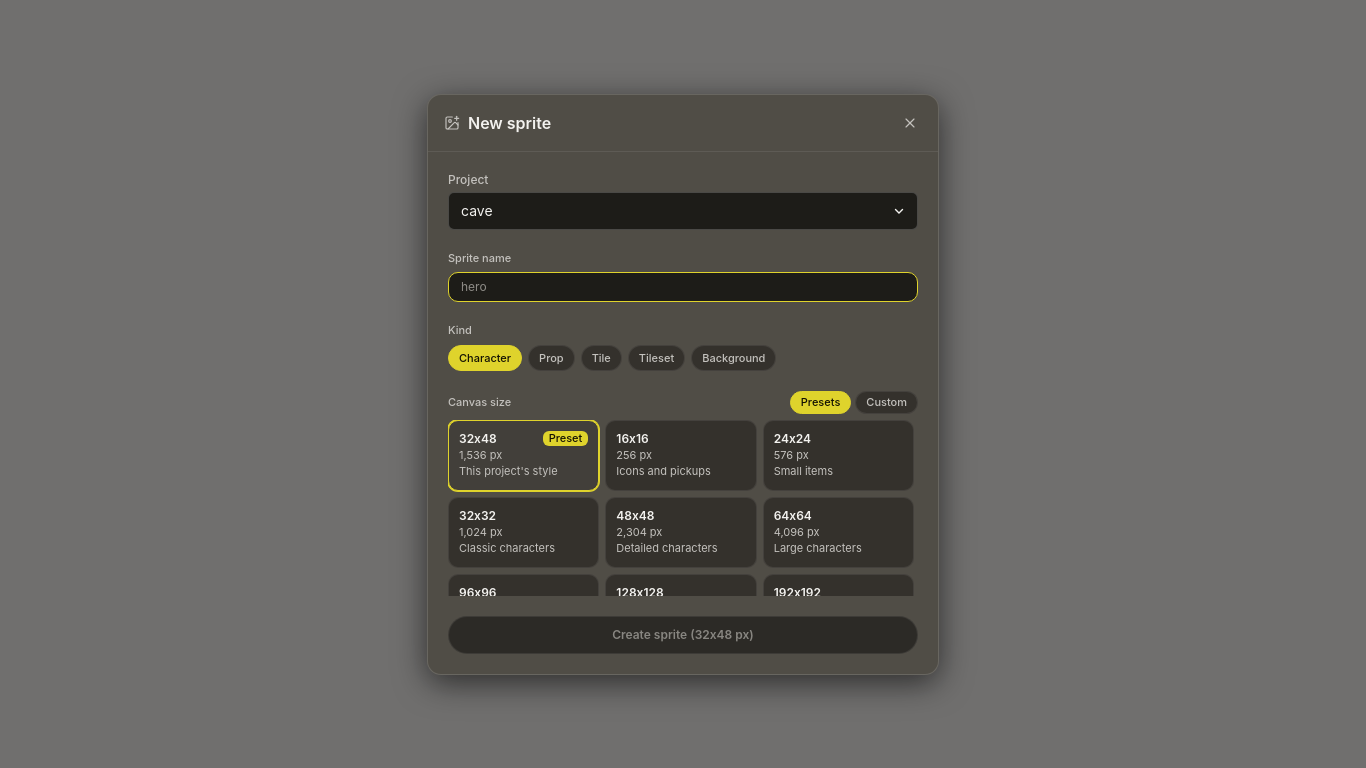
Test: NewSpriteDialog › marks the project's size for the kind, and moves it when the kind changes
Click the button "Tile" at (601, 358), box [581,344,622,371]
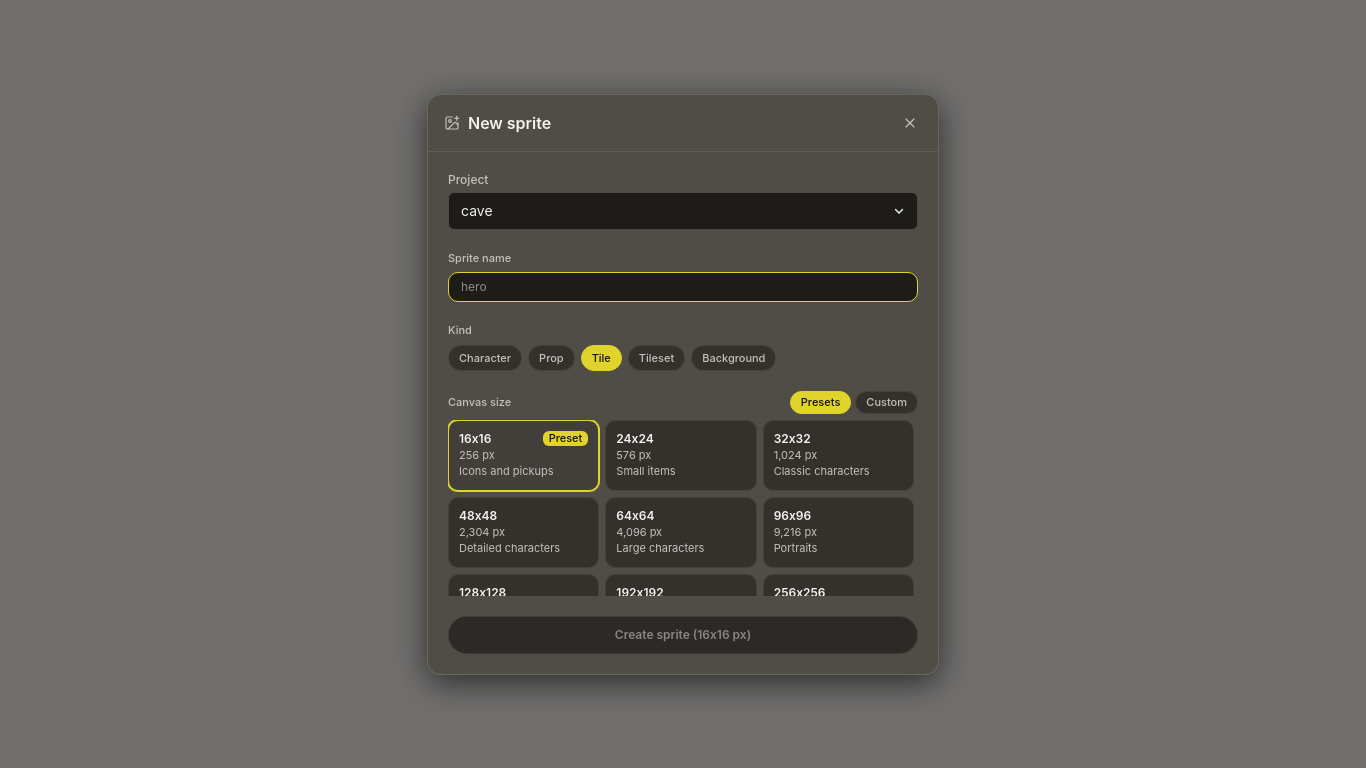
Now the button "16x16 Preset 256 px Icons and pickups" is shown, box [448,420,599,490]
Now the button "Create sprite (16x16 px)" is shown, box [448,616,918,654]
